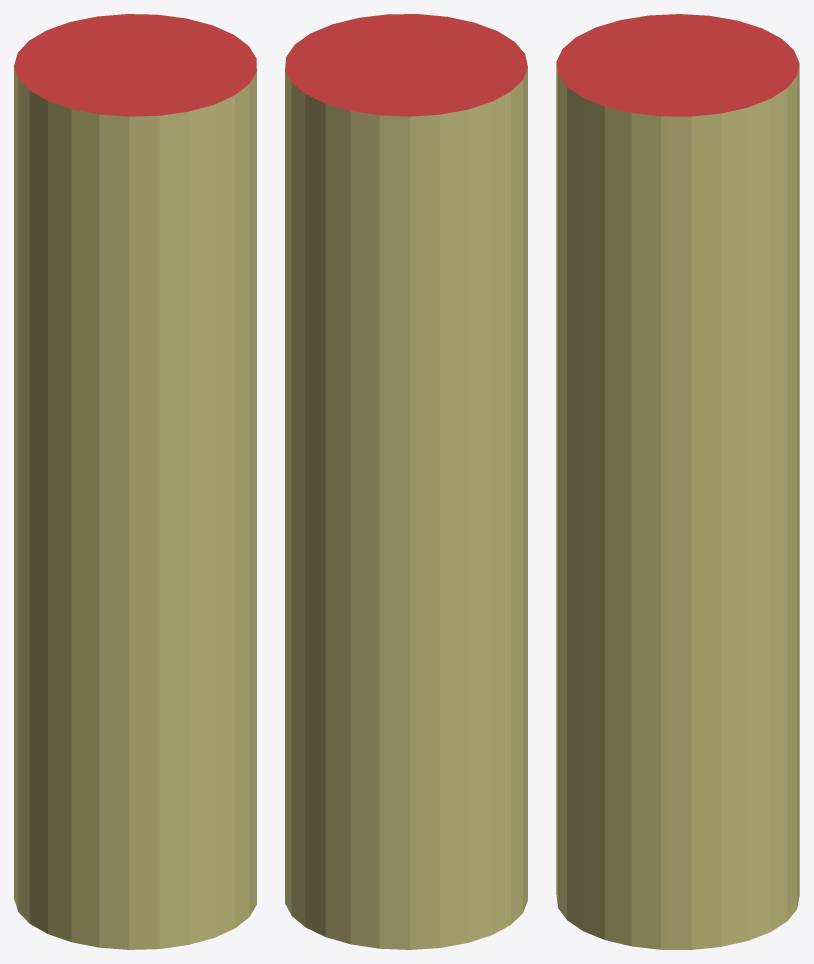
3 views of the same model, side by side, from view 1: azimuth 30°, elevation 25°; view 2: azimuth 150°, elevation 25°; view 3: azimuth 270°, elevation 25° (orthographic).
Bounding box in the file's own units: 2.62 × 2.62 × 9.91.
